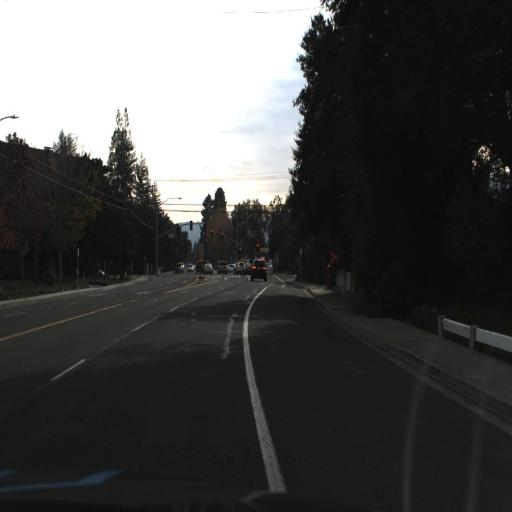car: (250, 256, 268, 279)
